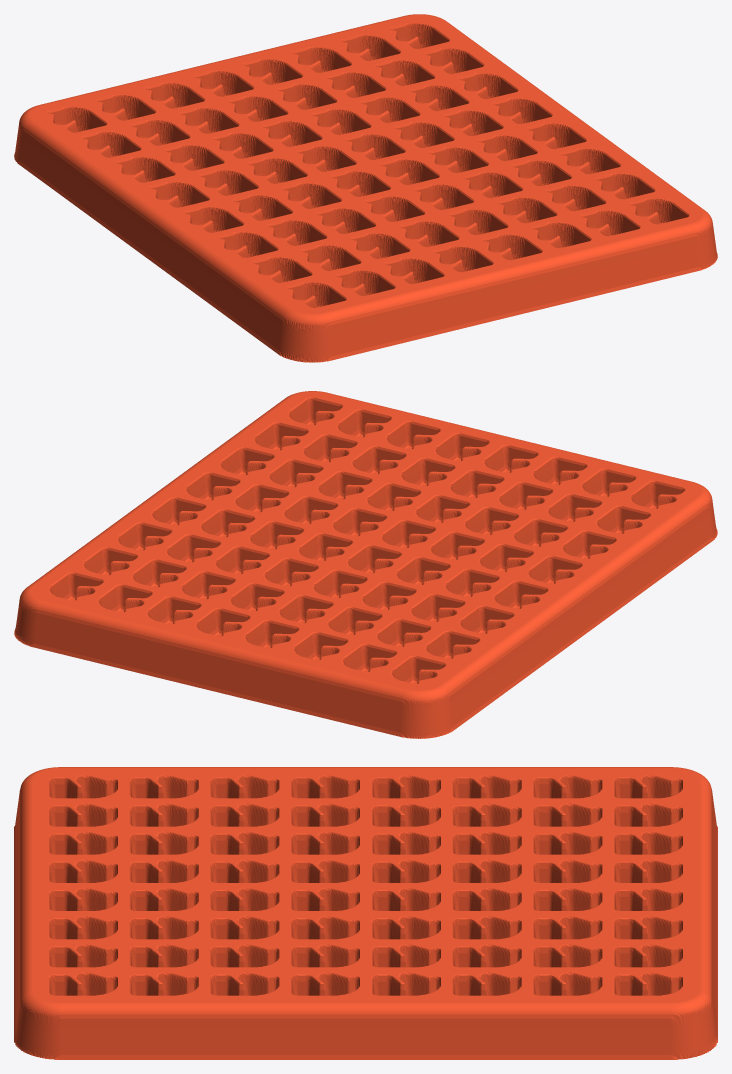
The model's file is mold.glb.
3 renders of one model, top to bottom at view 1: azimuth 30°, elevation 25°; view 2: azimuth 150°, elevation 25°; view 3: azimuth 270°, elevation 25°, orthographic. The views are drawn at different scales.
Parts seen in each view (by area): view 1: geometry_0; view 2: geometry_0; view 3: geometry_0.
Part boxes in pixels (bbox=[...]): geometry_0: bbox=[14, 14, 717, 362]; geometry_0: bbox=[14, 391, 717, 738]; geometry_0: bbox=[14, 767, 717, 1059].
Bounding box in the file's own units: 0.1139 × 0.0105 × 0.1355.
